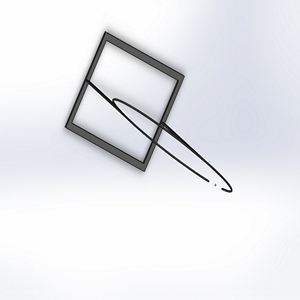circle: (62, 27, 234, 194)
